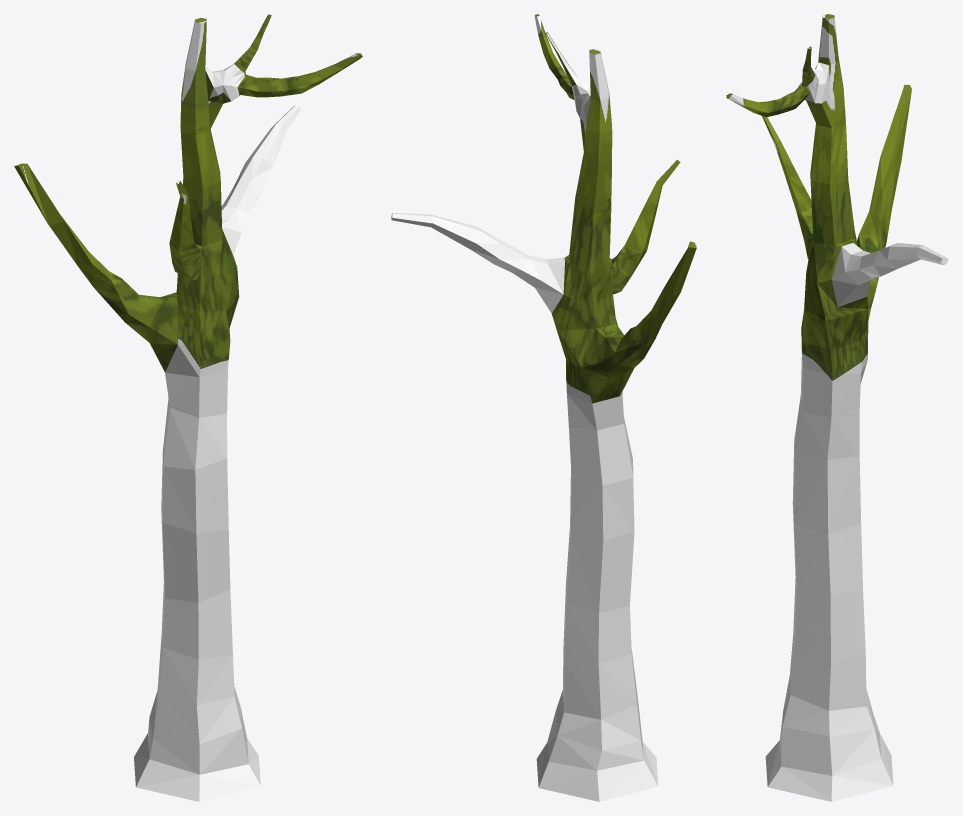
File: Pohon 2.fbx
The picture shows the model from 3 angles, left to right: view 1: azimuth 30°, elevation 25°; view 2: azimuth 150°, elevation 25°; view 3: azimuth 270°, elevation 25°; orthographic projection. The views are drawn at different scales.
Parts seen in each view (by area): view 1: Pohon_2; view 2: Pohon_2; view 3: Pohon_2.
Part boxes in pixels (left/top/right/bottom): Pohon_2: left=14, top=14, right=362, bottom=801; Pohon_2: left=391, top=14, right=697, bottom=801; Pohon_2: left=726, top=14, right=948, bottom=801.
Bounding box in the file's own units: 2615 × 6196 × 1649.
